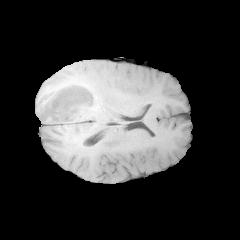glioma: (40, 77, 104, 125)
